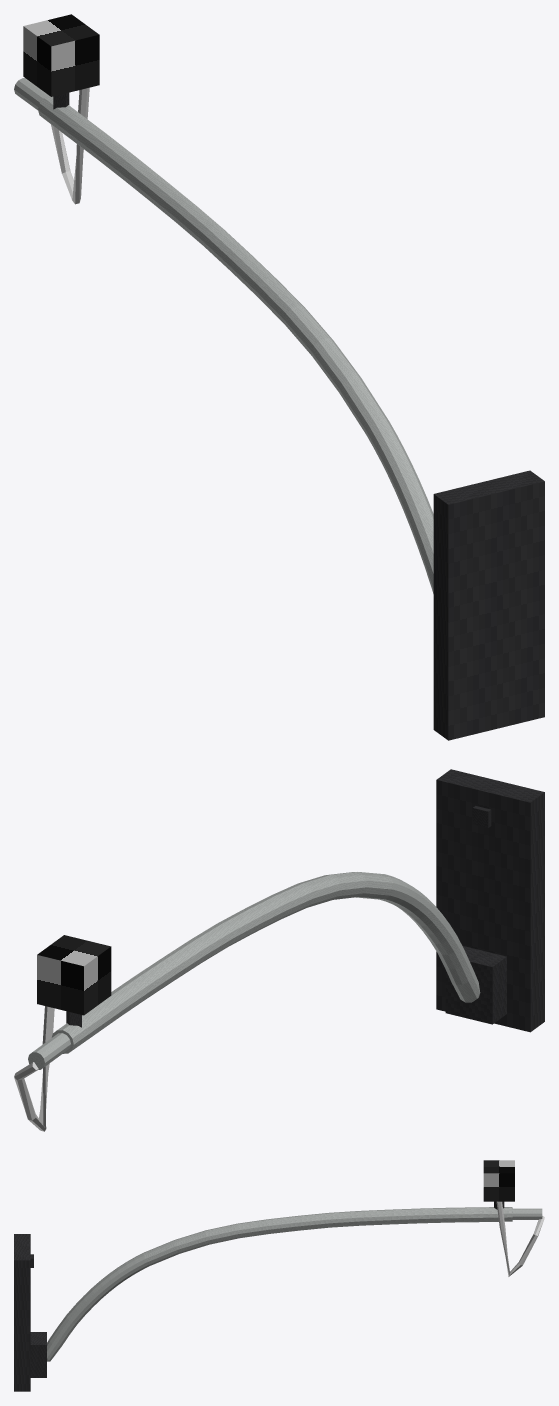
File: arm_3_straight_wired.obj
3 views of the same model, one above another, from view 1: azimuth 30°, elevation 25°; view 2: azimuth 150°, elevation 25°; view 3: azimuth 270°, elevation 25° (orthographic). The views are drawn at different scales.
Parts seen in each view (by area): view 1: pole_light_mount_3_straight_wired; view 2: pole_light_mount_3_straight_wired; view 3: pole_light_mount_3_straight_wired.
Boxes of the visible parts, x1=… form: pole_light_mount_3_straight_wired: x1=14, y1=14, x2=544, y2=740; pole_light_mount_3_straight_wired: x1=14, y1=769, x2=544, y2=1131; pole_light_mount_3_straight_wired: x1=14, y1=1160, x2=544, y2=1391.
Bounding box in the file's own units: 0.375 × 1.41 × 3.2.
